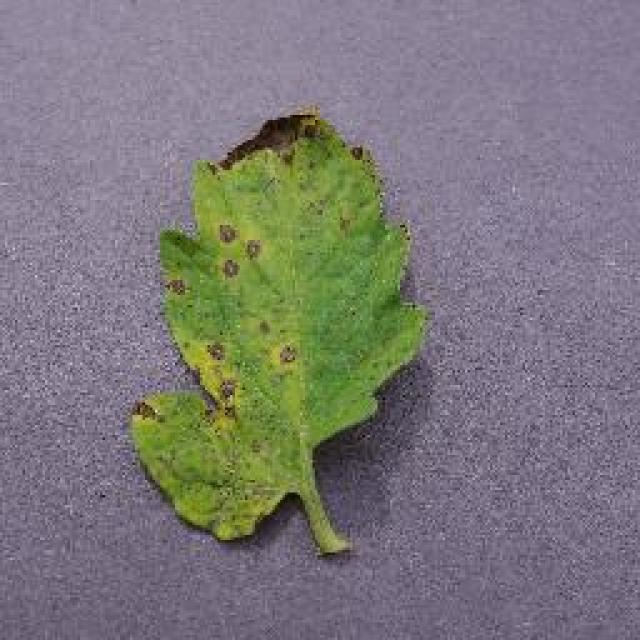Tomato Septoria spot leaf: (134, 105, 419, 535)
